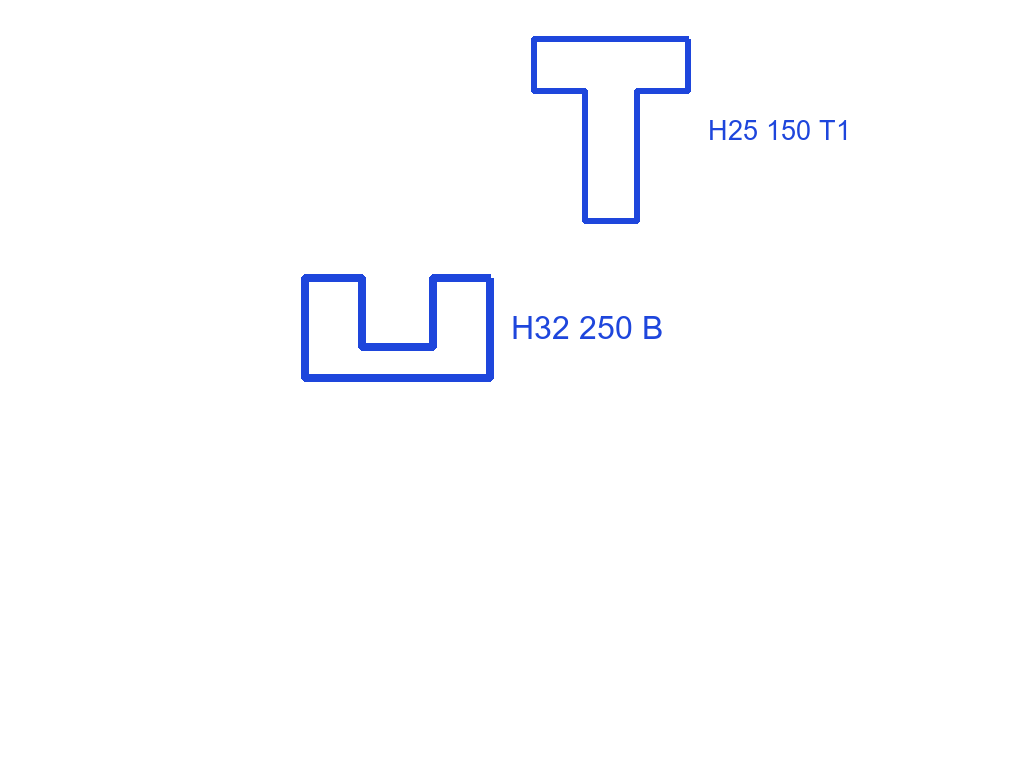shape: (529, 35, 693, 225), (299, 273, 497, 383)
text: (509, 315, 665, 342), (706, 118, 853, 142)
